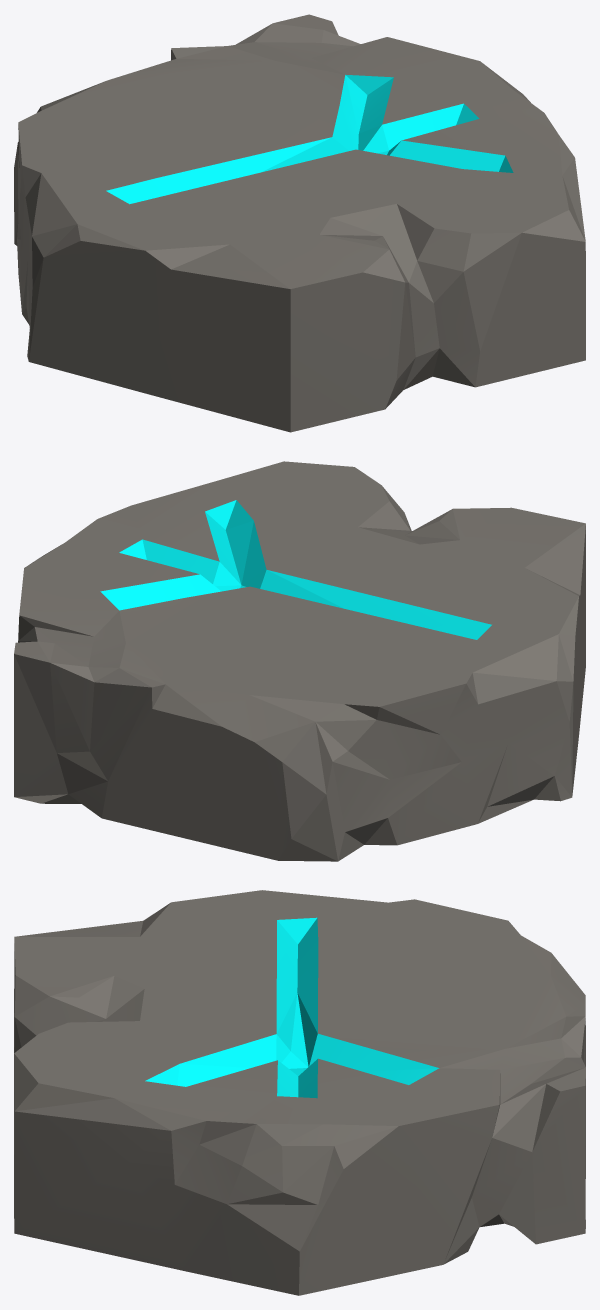
Rendered from SM_Env_Rounded_A_02.glb.
The picture shows the model from 3 angles, top to bottom: view 1: azimuth 30°, elevation 25°; view 2: azimuth 150°, elevation 25°; view 3: azimuth 270°, elevation 25°; orthographic projection. The views are drawn at different scales.
Visible parts, largest first — view 1: SM_Env_Rounded_A_02; view 2: SM_Env_Rounded_A_02; view 3: SM_Env_Rounded_A_02.
Part boxes in pixels (x1=…): SM_Env_Rounded_A_02: x1=14, y1=14, x2=585, y2=432; SM_Env_Rounded_A_02: x1=14, y1=461, x2=585, y2=861; SM_Env_Rounded_A_02: x1=14, y1=890, x2=585, y2=1295.
Size of the model in its own units: 2.73 by 0.687 by 2.41.
Materials: 1 (1 with a texture image).
